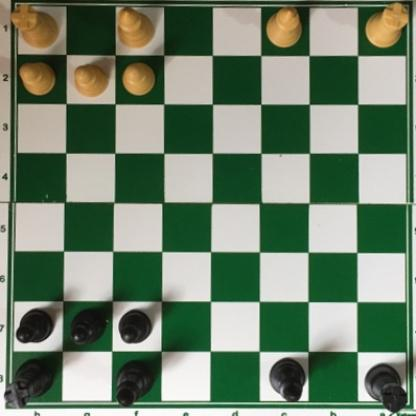black-bishop: (115, 358, 155, 407), (268, 357, 307, 401)
black-pawn: (69, 307, 107, 348), (15, 310, 57, 347), (117, 309, 154, 347)
black-rook: (4, 359, 55, 412), (364, 364, 411, 414)
white-bishop: (264, 0, 302, 51), (115, 5, 156, 50)
white-pawn: (19, 63, 57, 96), (73, 64, 109, 98), (123, 62, 156, 97)
white-rook: (363, 0, 413, 50), (11, 2, 60, 51)
